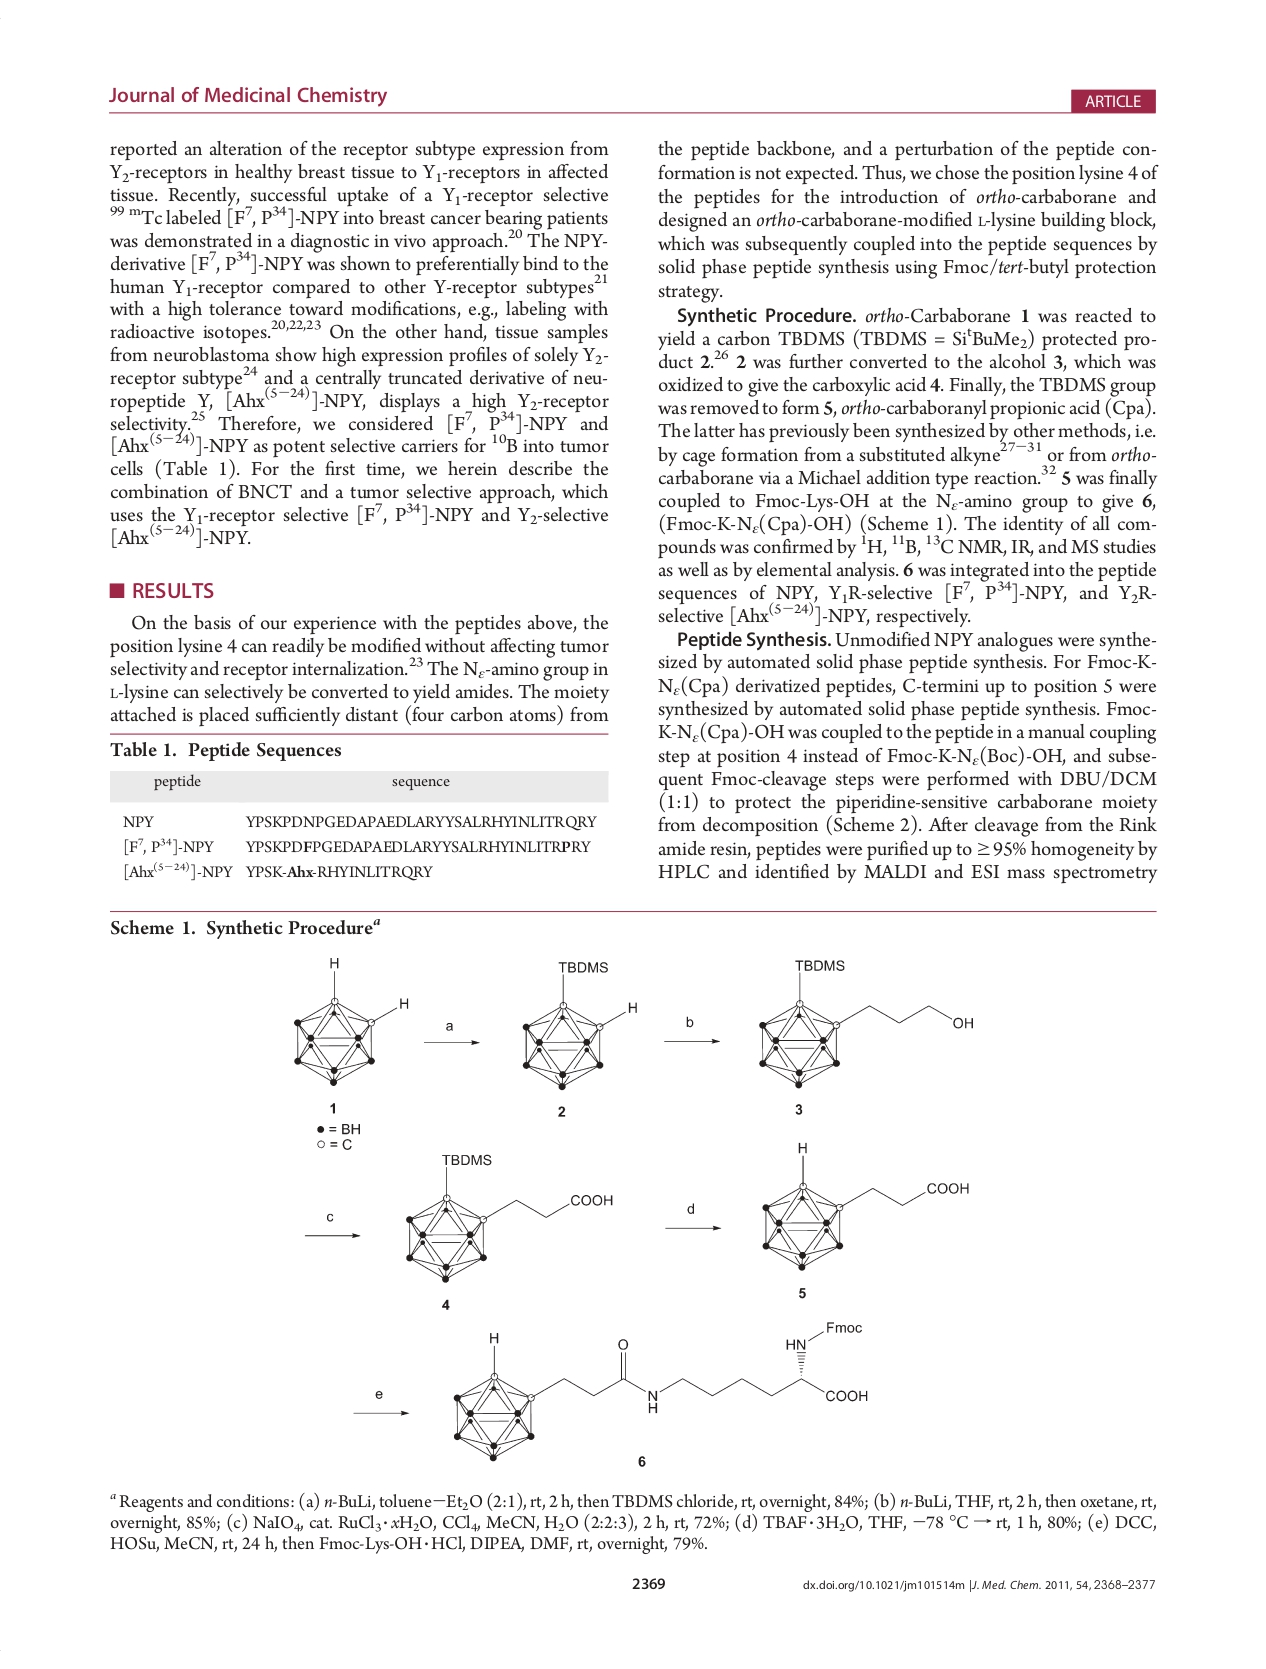exist_molecular: (452, 1319, 868, 1462), (755, 948, 976, 1092), (402, 1146, 616, 1285), (757, 1134, 969, 1273), (519, 950, 644, 1098), (286, 952, 414, 1088)
